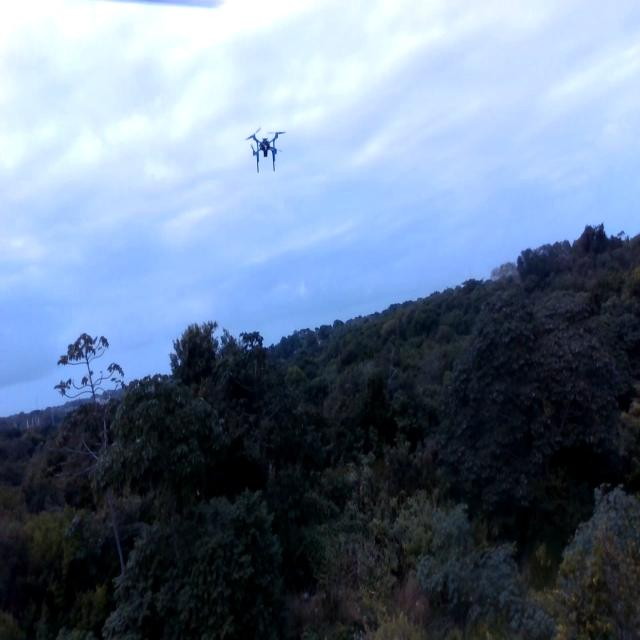-uav-: (240, 113, 290, 180)
